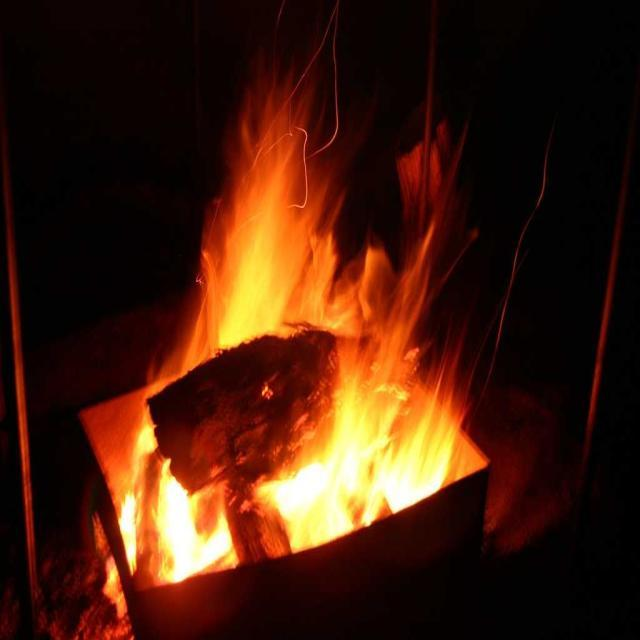Fire: (124, 92, 456, 509)
